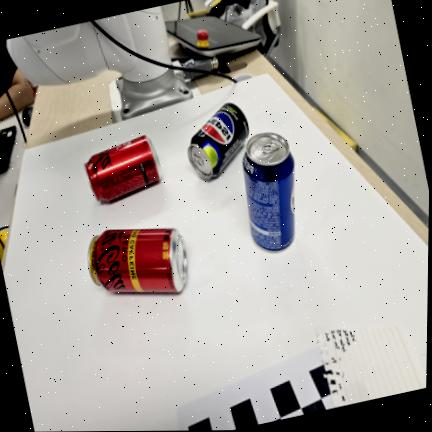can_coke_decaf: (88, 228, 188, 293)
can_coke_zero: (84, 135, 162, 201)
can_pepsi: (243, 132, 295, 251)
can_pepsi_zero: (188, 103, 249, 179)
